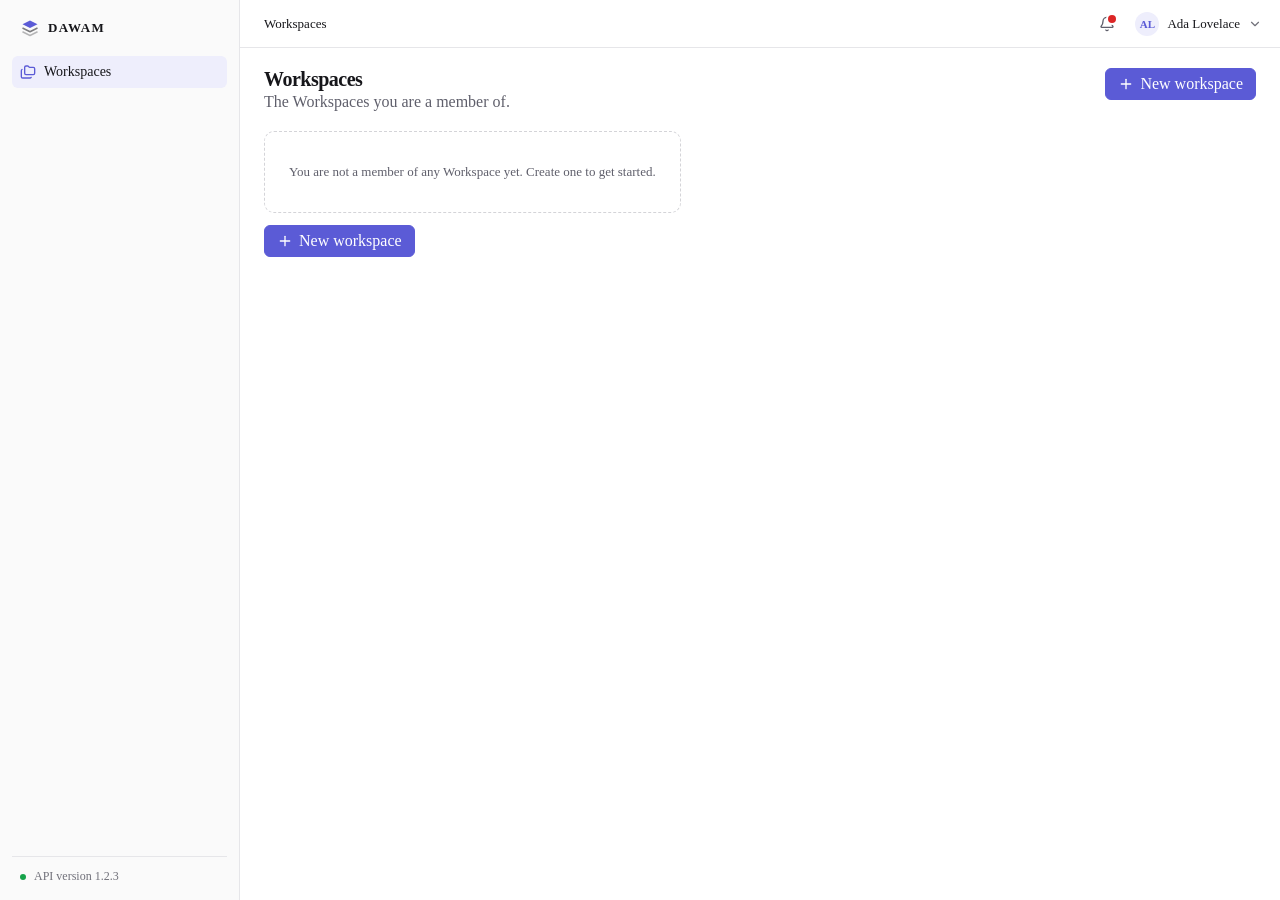
Test: the notification bell in the header › shows the unread count and lists the notifications when opened
Click the button named "Notifications (2)" at coordinates (1108, 24), box [1092,8,1124,40]
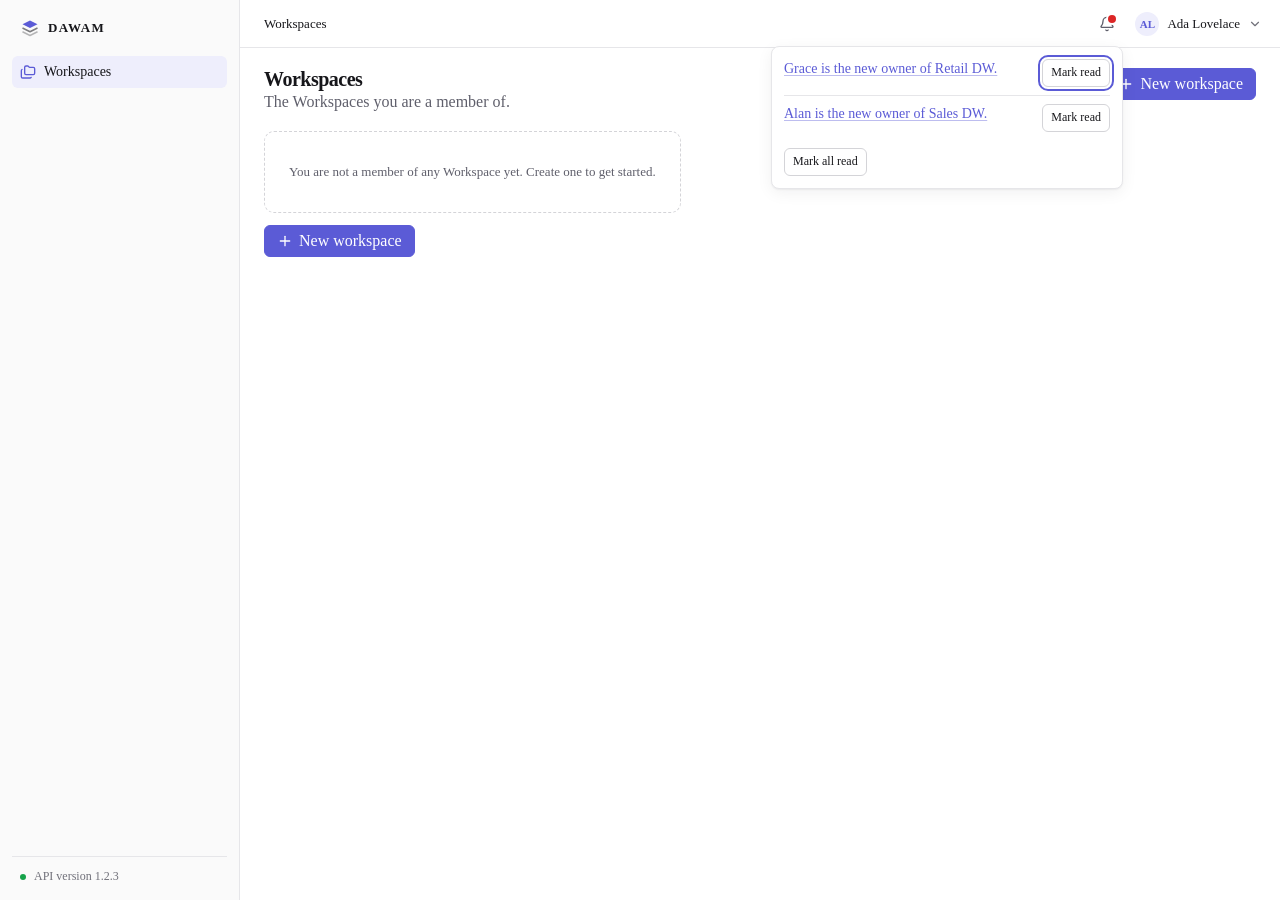
Check: the element named "Unread notifications" shows "Grace is the new owner of Retail DW.", box [784,61,997,76]
Check: the element named "Unread notifications" shows "Alan is the new owner of Sales DW.", box [784,106,987,121]
